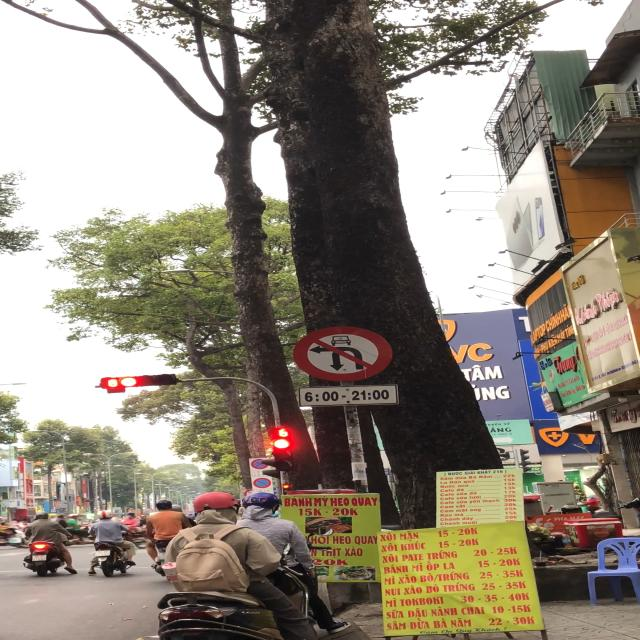Bien bao cam oto re trai va quay dau xe: (290, 324, 399, 385)
